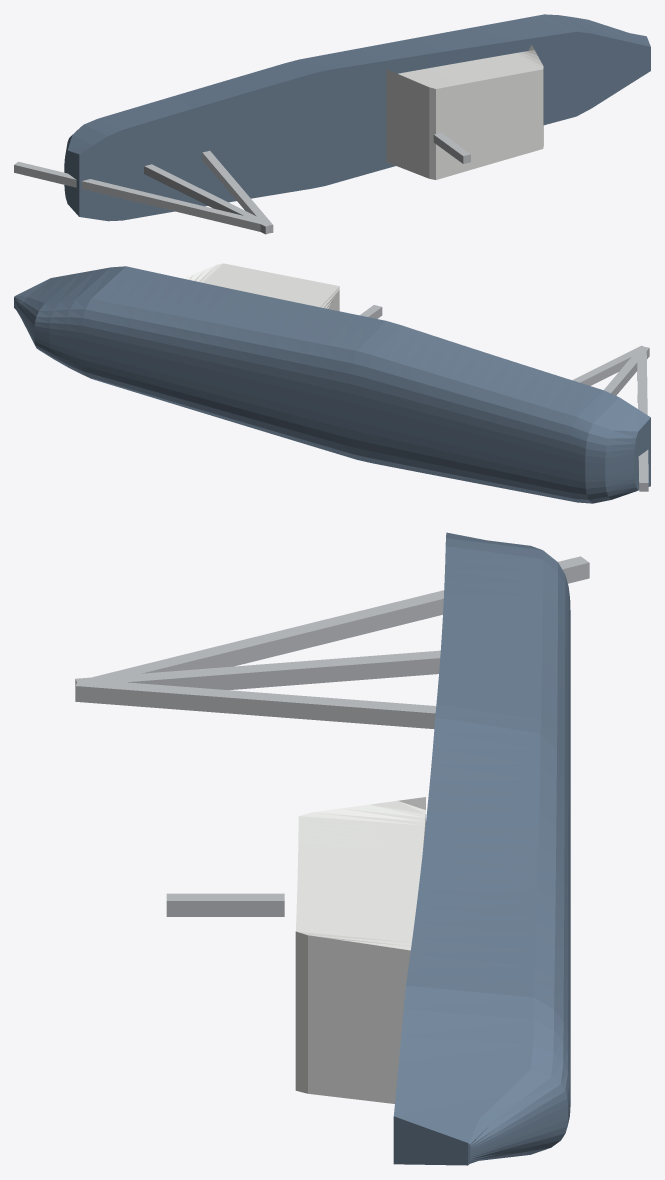
The model's file is loft-trawler-slender.glb.
3 views of the same model, one above another, from view 1: azimuth 30°, elevation 25°; view 2: azimuth 150°, elevation 25°; view 3: azimuth 270°, elevation 25° (orthographic). The views are drawn at different scales.
Visible parts, largest first — view 1: loft-trawler-slender; view 2: loft-trawler-slender; view 3: loft-trawler-slender.
Boxes of the visible parts, x1=… form: loft-trawler-slender: x1=14, y1=14, x2=650, y2=234; loft-trawler-slender: x1=14, y1=263, x2=650, y2=503; loft-trawler-slender: x1=75, y1=532, x2=589, y2=1165.
Size of the model in its own units: 1.92 by 0.3504 by 0.7071.
